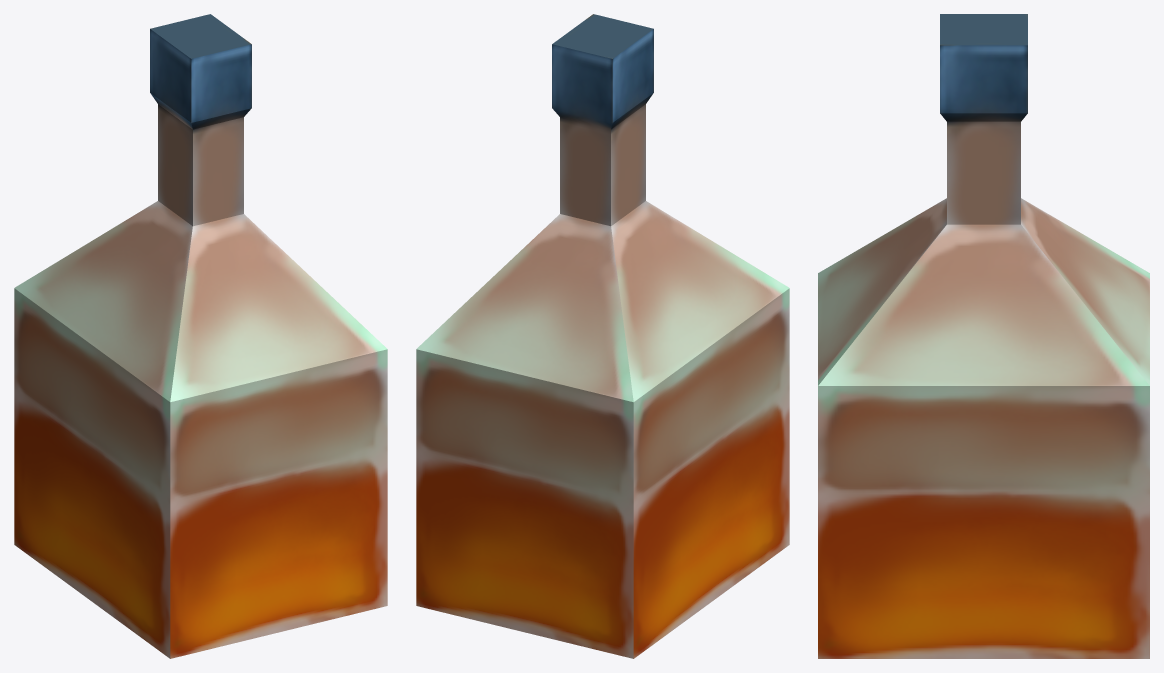
File: JiuPing05.FBX
3 renders of one model, left to right at view 1: azimuth 30°, elevation 25°; view 2: azimuth 150°, elevation 25°; view 3: azimuth 270°, elevation 25°, orthographic. The views are drawn at different scales.
Visible parts, largest first — view 1: JiuPing05; view 2: JiuPing05; view 3: JiuPing05.
Part boxes in pixels (x1,y1,x2,y2): JiuPing05: (14, 14, 387, 658); JiuPing05: (416, 14, 789, 658); JiuPing05: (818, 14, 1149, 658).
Bounding box in the file's own units: 13.62 × 32.23 × 16.92.
